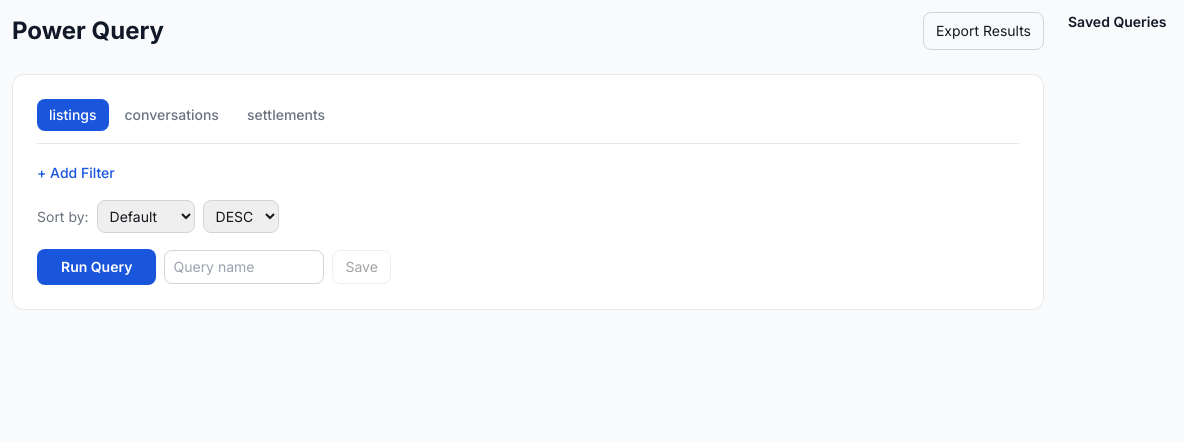
Test case: AdminQuery — running a query › result row data renders in the table
The image size is (1184, 442).
Step 1. Click the button "Run Query" → (97, 267), box [37,249,156,285]
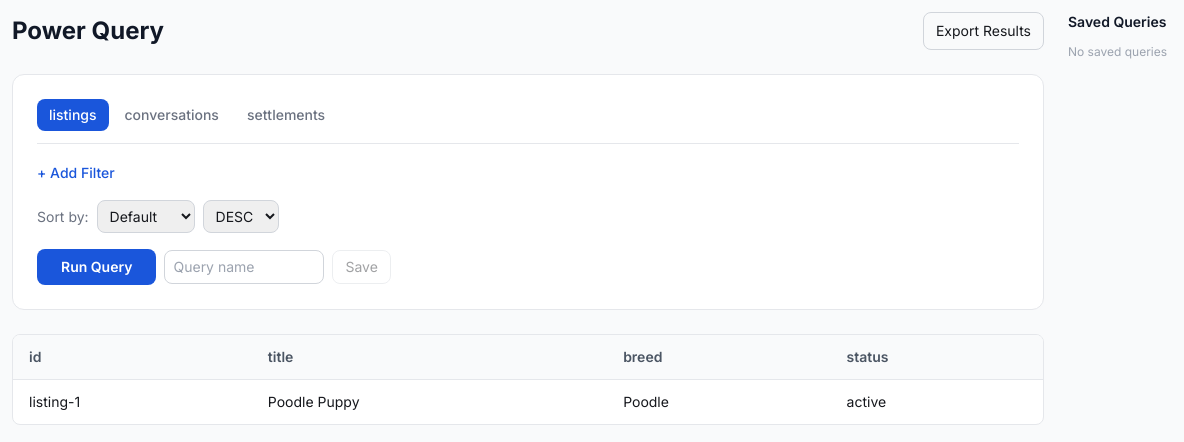
Expected: the text "Poodle Puppy" is shown, [252,380,607,424]
